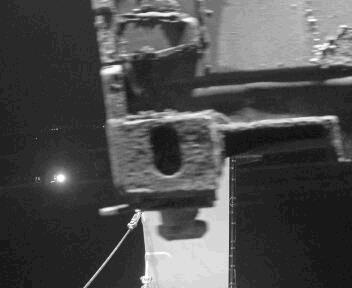twist_lock_1: (123, 191, 228, 256)
